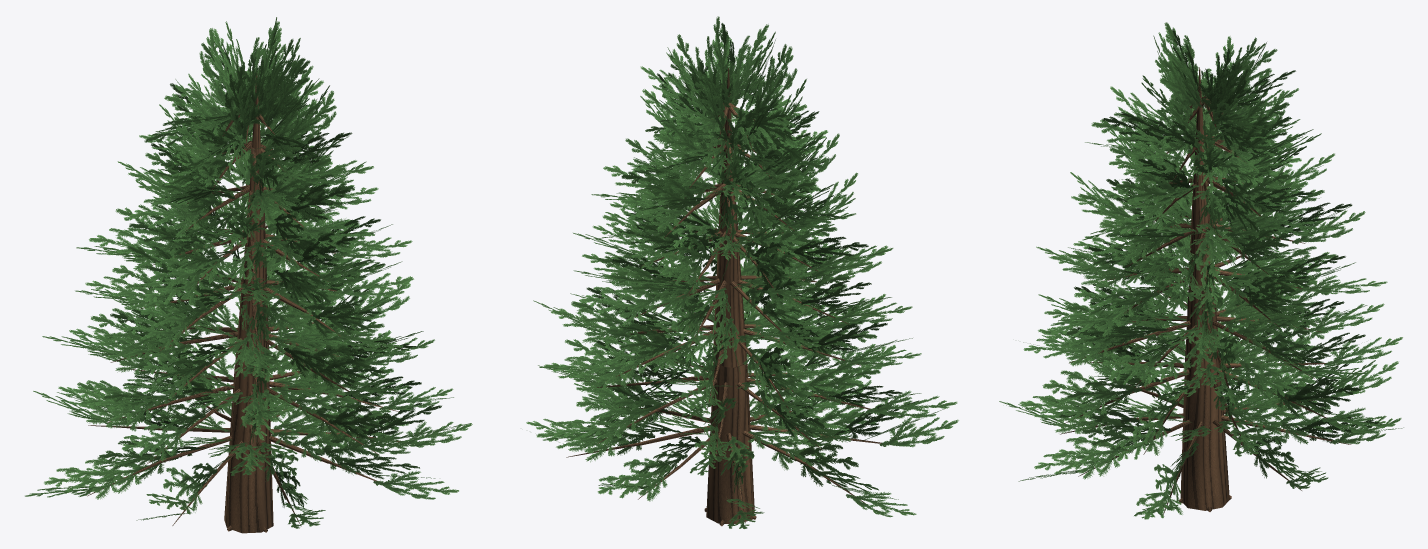
File: pine_a.glb
3 renders of one model, left to right at view 1: azimuth 30°, elevation 25°; view 2: azimuth 150°, elevation 25°; view 3: azimuth 270°, elevation 25°, orthographic. The views are drawn at different scales.
Visible parts, largest first — view 1: pine_a; view 2: pine_a; view 3: pine_a.
Part boxes in pixels (<box>): pine_a: <box>25,17,472,533</box>; pine_a: <box>526,16,958,528</box>; pine_a: <box>999,22,1403,519</box>.
Size of the model in its own units: 2.09 by 2.42 by 1.91.
Materials: 1 (1 with a texture image).
